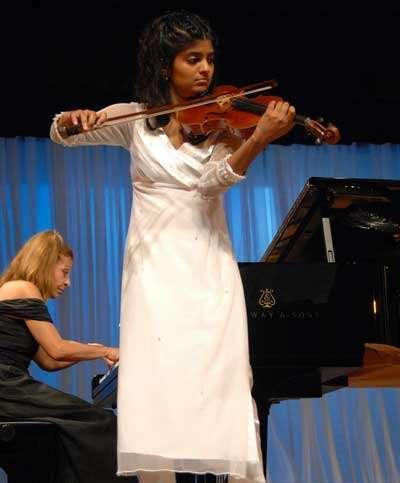person: (50, 14, 298, 483)
